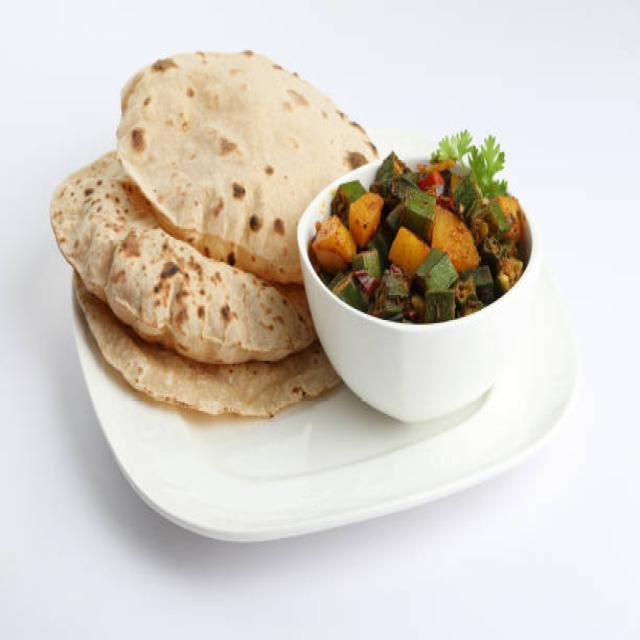CHAPATHI: (41, 35, 374, 450)
VEGGIES: (312, 123, 531, 342)
